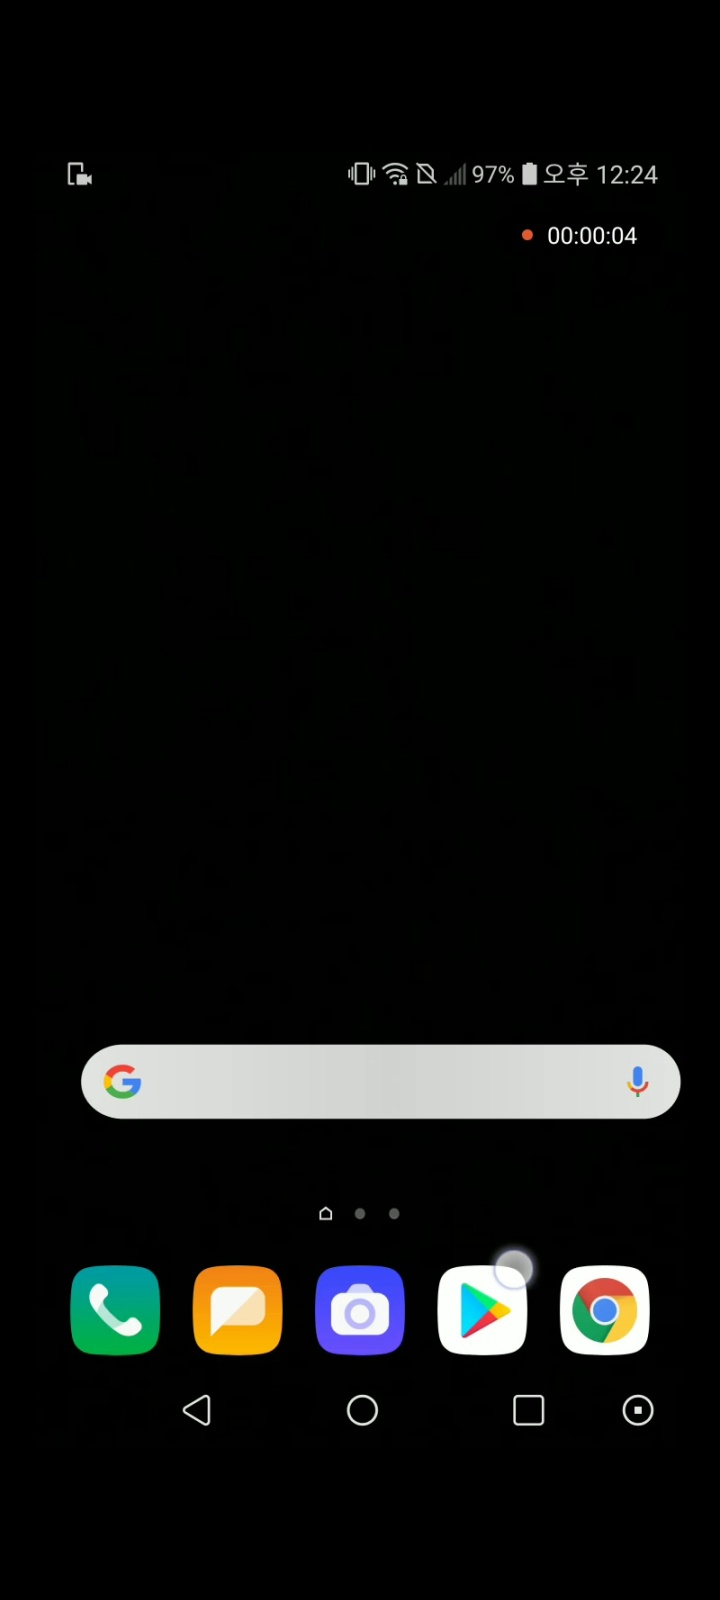Cursor: (495, 1250, 541, 1295)
